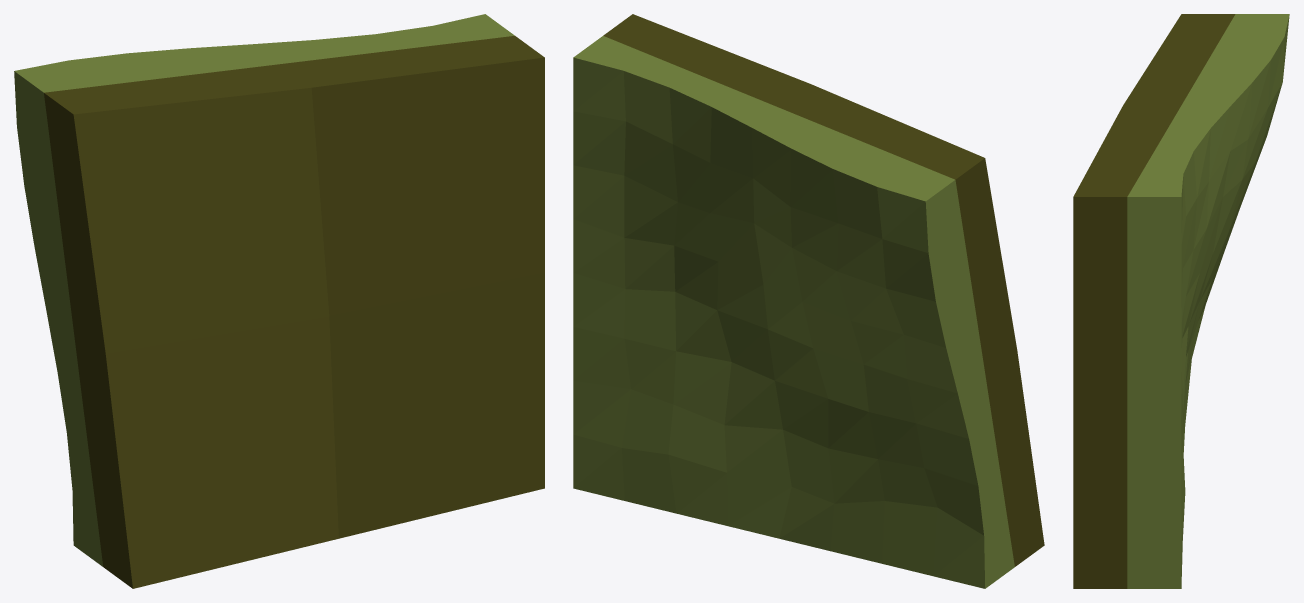
Rendered from Slope_Up_Corner.fbx.
3 renders of one model, left to right at view 1: azimuth 30°, elevation 25°; view 2: azimuth 150°, elevation 25°; view 3: azimuth 270°, elevation 25°, orthographic. The views are drawn at different scales.
Parts seen in each view (by area): view 1: Slope_Up_Corner; view 2: Slope_Up_Corner; view 3: Slope_Up_Corner.
Boxes of the visible parts, x1,y1,x2,y2 form: Slope_Up_Corner: (14,14,544,588); Slope_Up_Corner: (573,14,1044,588); Slope_Up_Corner: (1073,14,1289,588).
Size of the model in its own units: 400 by 400 by 200.
